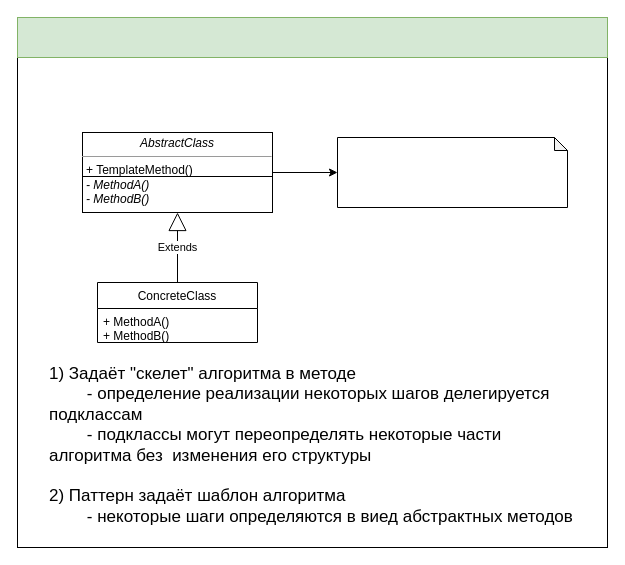
This 625x565 diagram has some shape labels left out. Each missing label, with the centre of its shape:
... MethodA(); ... MethodB(); ...: pixel 452 172
Паттерн "Шаблонный метод": pixel 312 37
